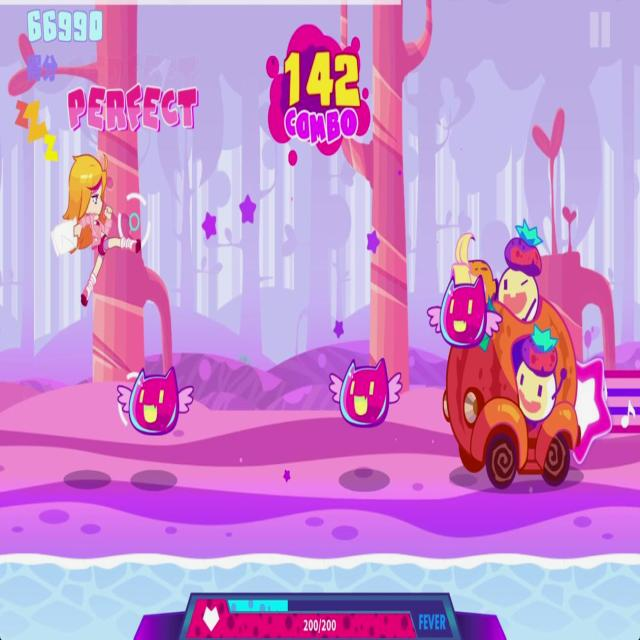cheboss: (444, 236, 584, 494)
hold: (567, 350, 640, 464)
mao: (428, 273, 504, 350), (116, 366, 196, 436), (330, 356, 404, 424)
